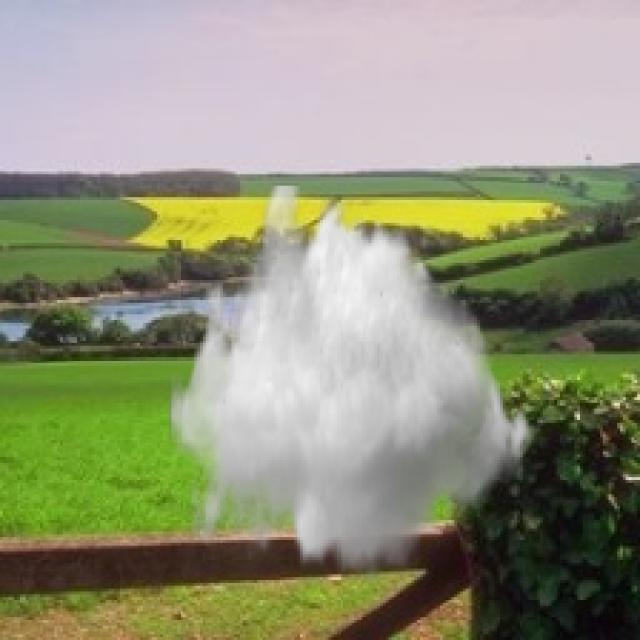smoke: (169, 183, 540, 580)
